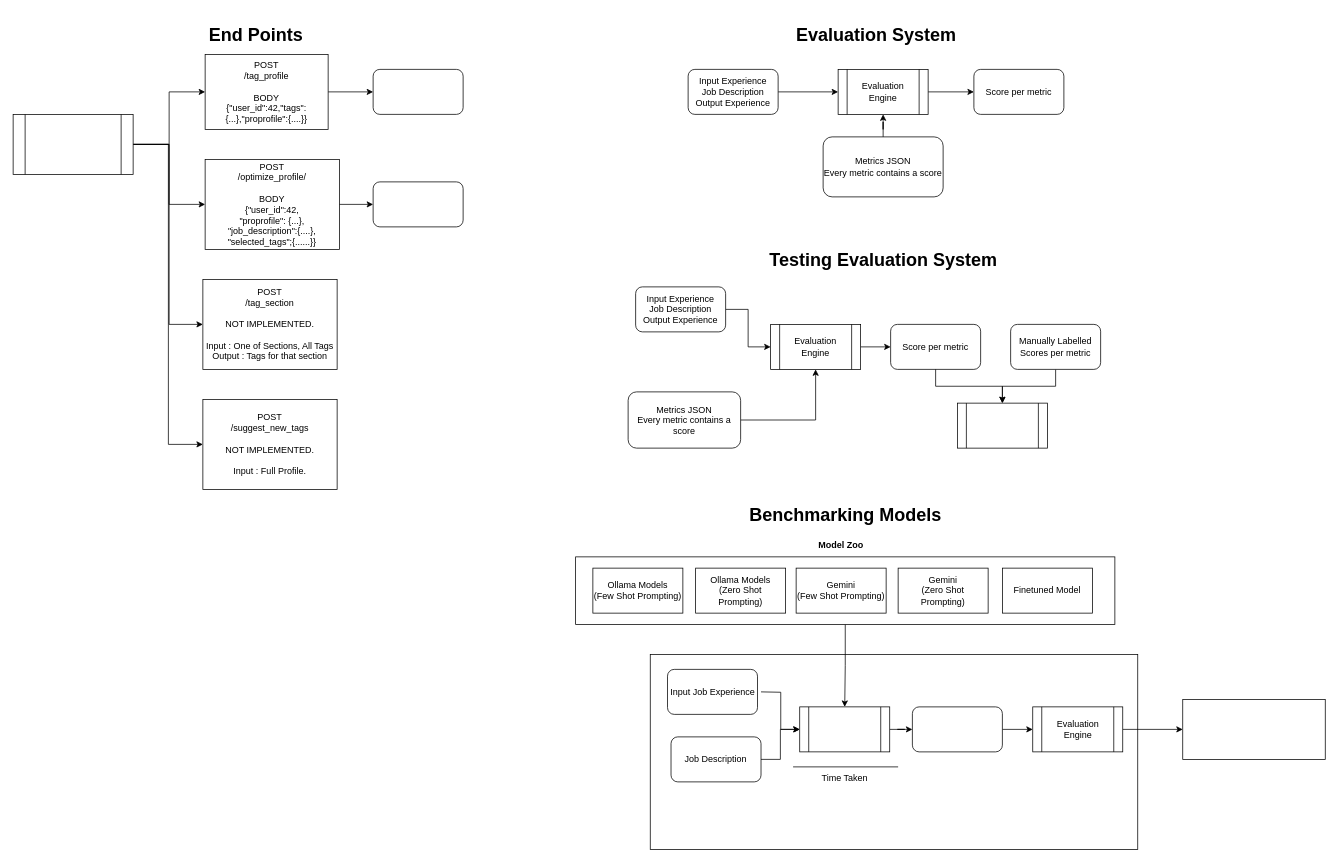
This 1339x863 diagram has some shape labels left out. Here are the shapes that lost their labels. From the top down, the centre of each, then its label:
the point at 417,91: RESPONSE {"tagged_profile":{........}}
the point at 72,144: ML Inference API
the point at 417,204: RESPONSE {"optimized_profile":{........}}
the point at 1002,425: Comparison Analysis
the point at 844,729: Model
the point at 957,729: Output Job Description
the point at 1253,729: Analysis Per Model. Compare Performance Per metric, across industries
